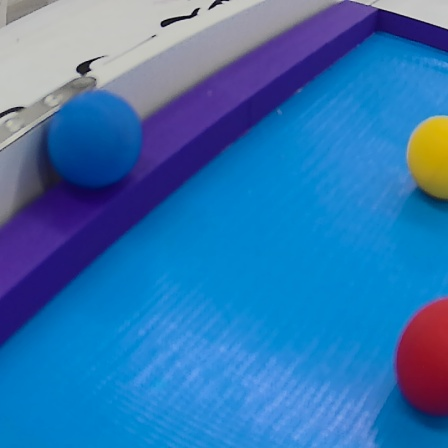blue: (42, 86, 151, 193)
blue_aim: (2, 4, 448, 448)
red: (391, 299, 448, 425)
yellow: (403, 113, 448, 202)
